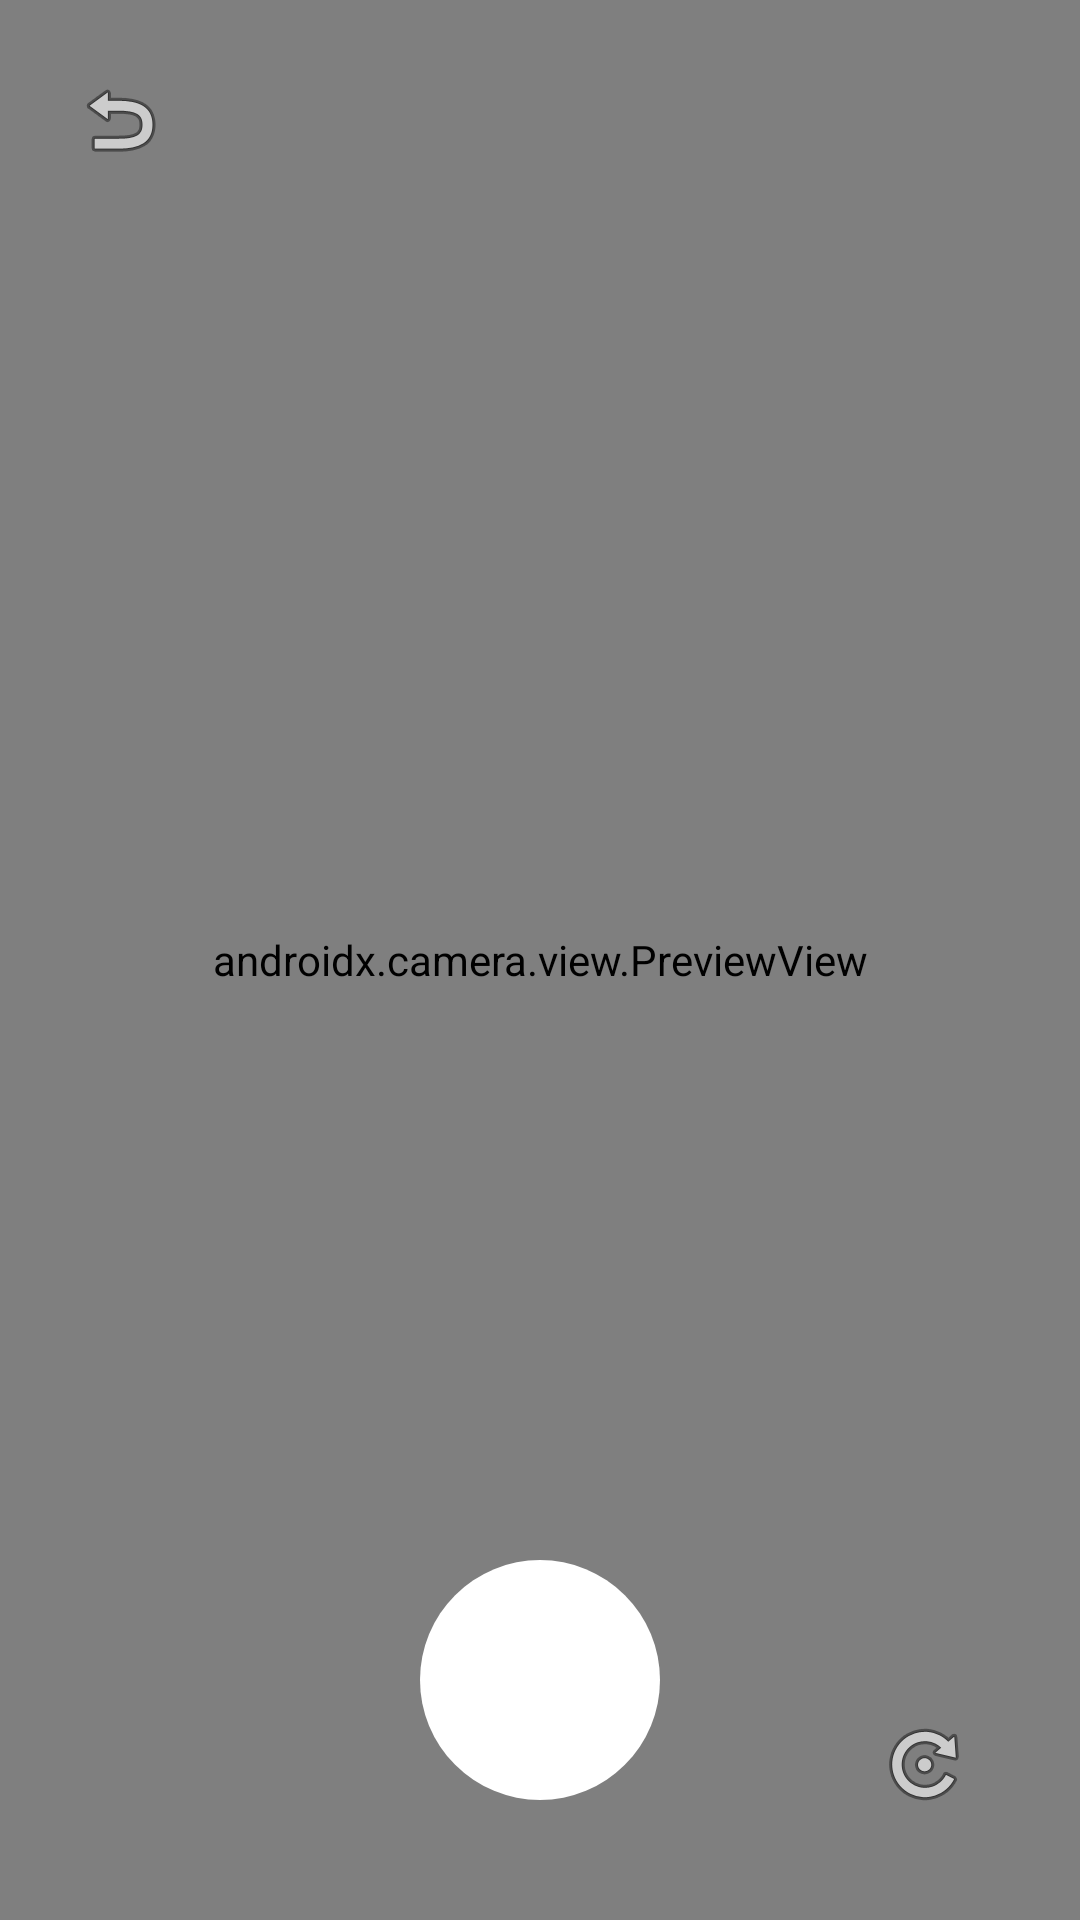

Locate icon controls on the screen. Image size 1080px x 1920px, boxes as (x1, y1, x2, y2).
Back: (87, 90, 156, 152)
Flip Camera: (889, 1729, 959, 1800)
